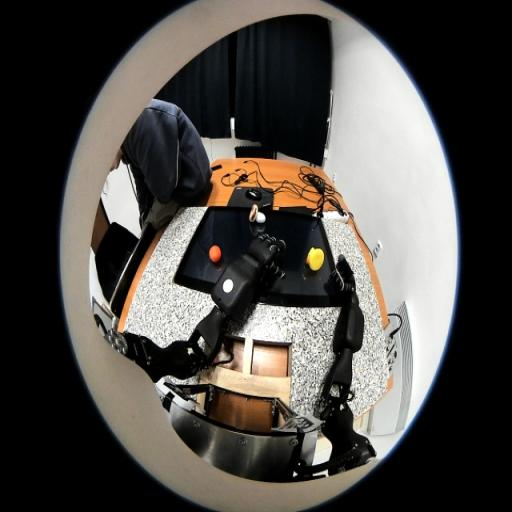Duck: (306, 247, 324, 271)
LeftHand: (250, 238, 271, 260)
Mushroom: (249, 204, 266, 223)
Orange: (209, 245, 221, 263)
RightHand: (342, 278, 356, 298)
